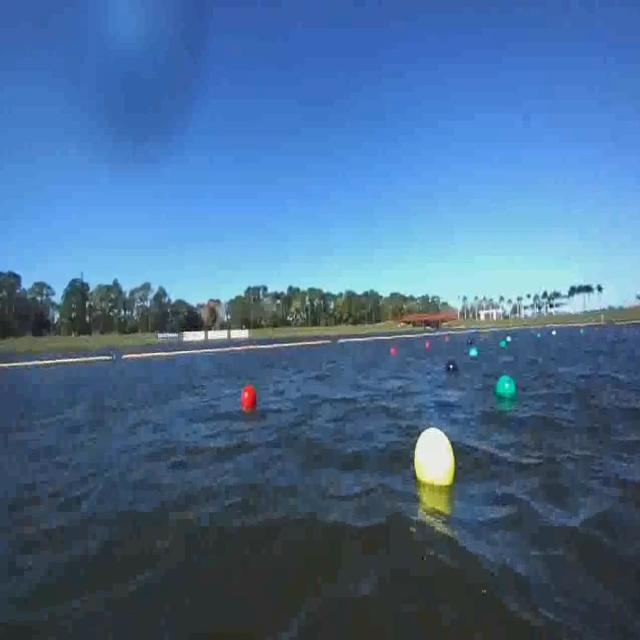black-buoy: (446, 358, 461, 374)
green-buoy: (496, 374, 515, 399)
red-buoy: (240, 383, 255, 411), (426, 342, 430, 351)
yellow-buoy: (415, 428, 456, 488)
